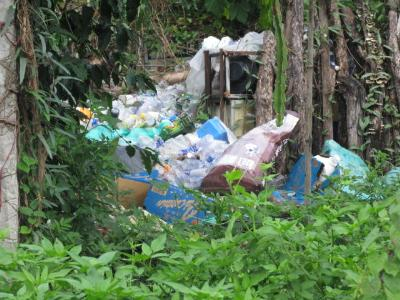plastic_bag: (201, 109, 303, 197), (107, 80, 184, 140)
